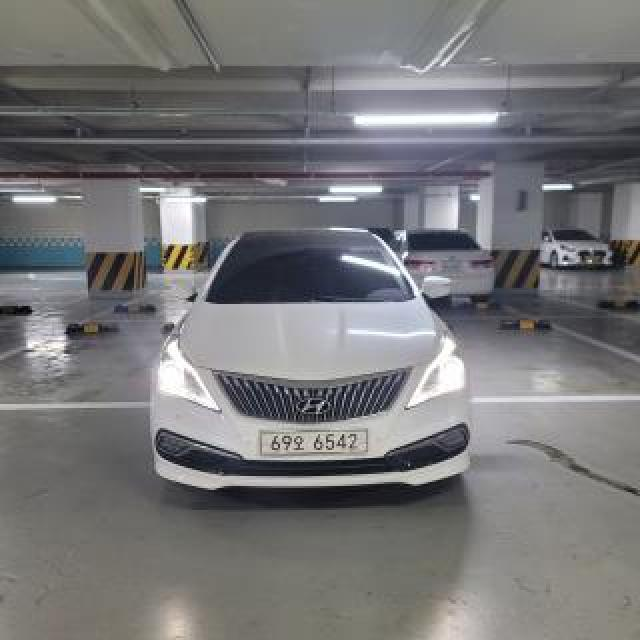car: (144, 220, 481, 505)
illegal_plate: (256, 427, 376, 459)
